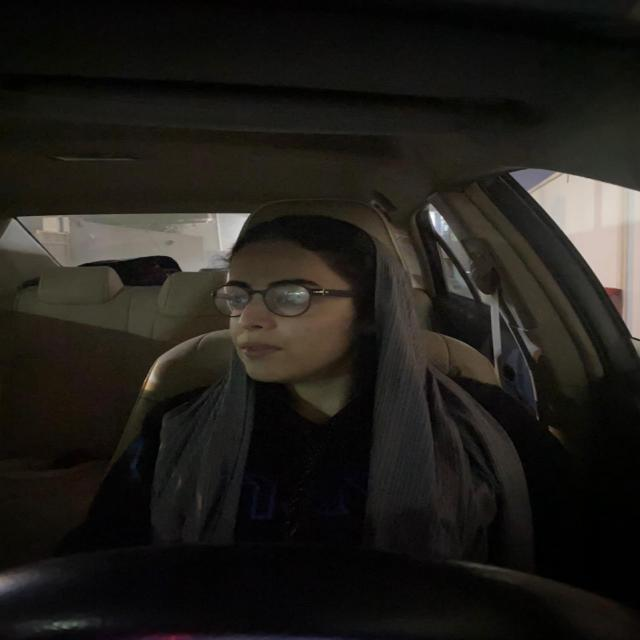LeftRight: (215, 208, 398, 389)
